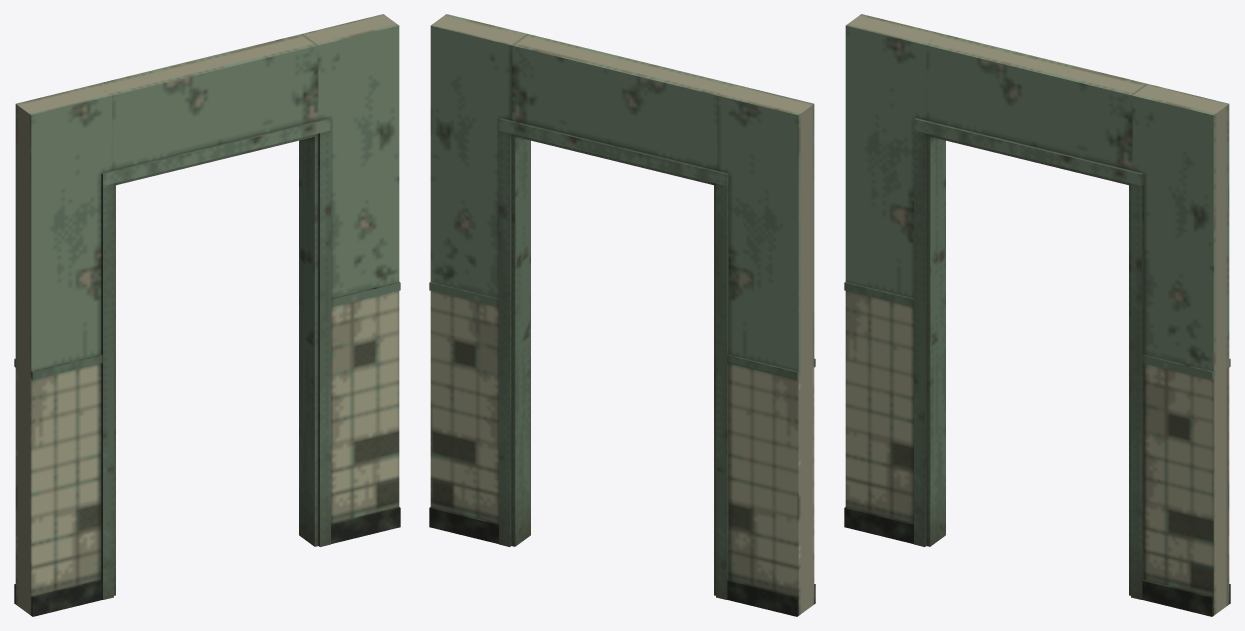
The model's file is Wall_Door_2m_01.obj.
3 views of the same model, side by side, from view 1: azimuth 30°, elevation 25°; view 2: azimuth 150°, elevation 25°; view 3: azimuth 330°, elevation 25° (orthographic).
Parts seen in each view (by area): view 1: Wall_Door_2m_01; view 2: Wall_Door_2m_01; view 3: Wall_Door_2m_01.
Part boxes in pixels (<box>): Wall_Door_2m_01: <box>14,14,400,616</box>; Wall_Door_2m_01: <box>429,14,815,616</box>; Wall_Door_2m_01: <box>844,14,1230,616</box>.
Bounding box in the file's own units: 2 × 2.6 × 0.18.
1 material, 1 textured.
